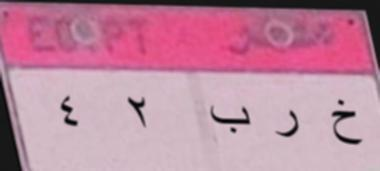2: (124, 90, 156, 134)
4: (53, 89, 86, 132)
baa: (206, 98, 252, 144)
khaa: (325, 96, 364, 149)
raa: (274, 103, 301, 147)
